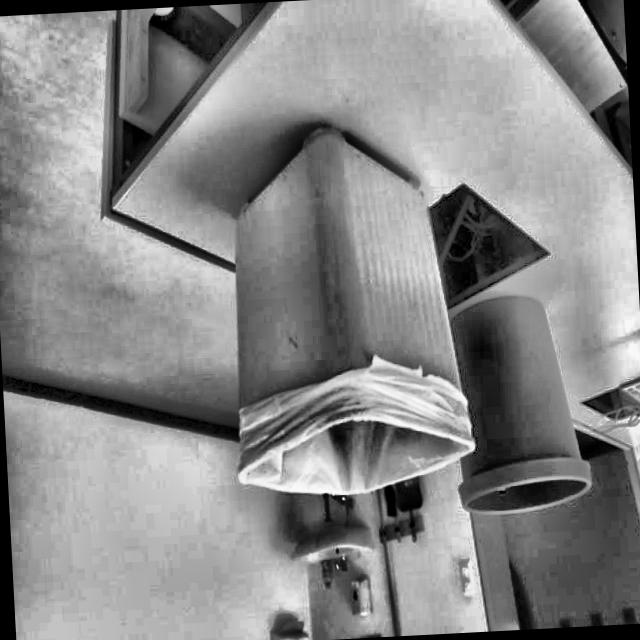Dustbin: (179, 106, 482, 524), (427, 277, 632, 583)
